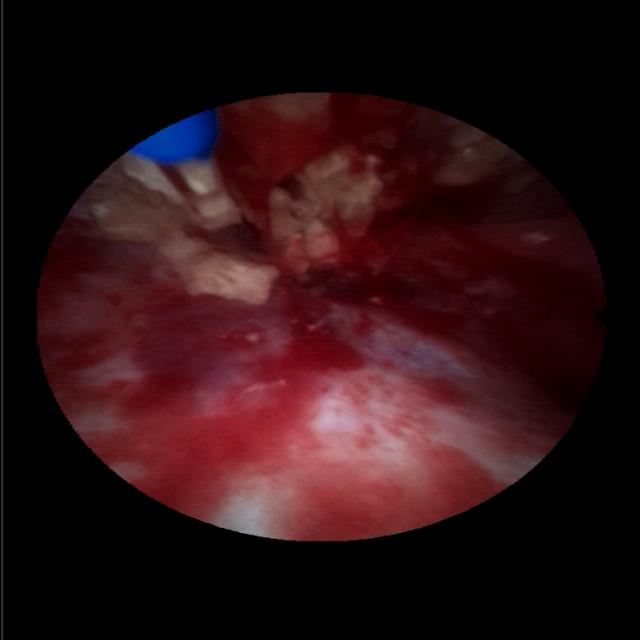fiber: (135, 113, 214, 162)
stone: (87, 149, 383, 304), (411, 112, 536, 194)
